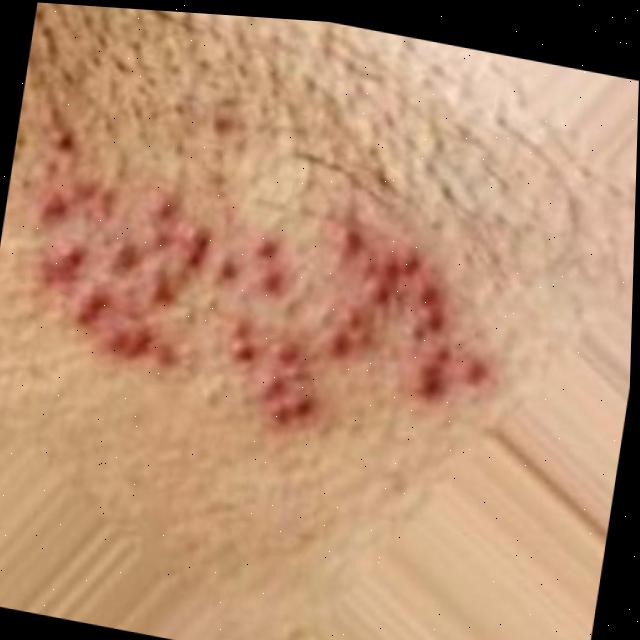Shingles: (0, 127, 512, 454)
